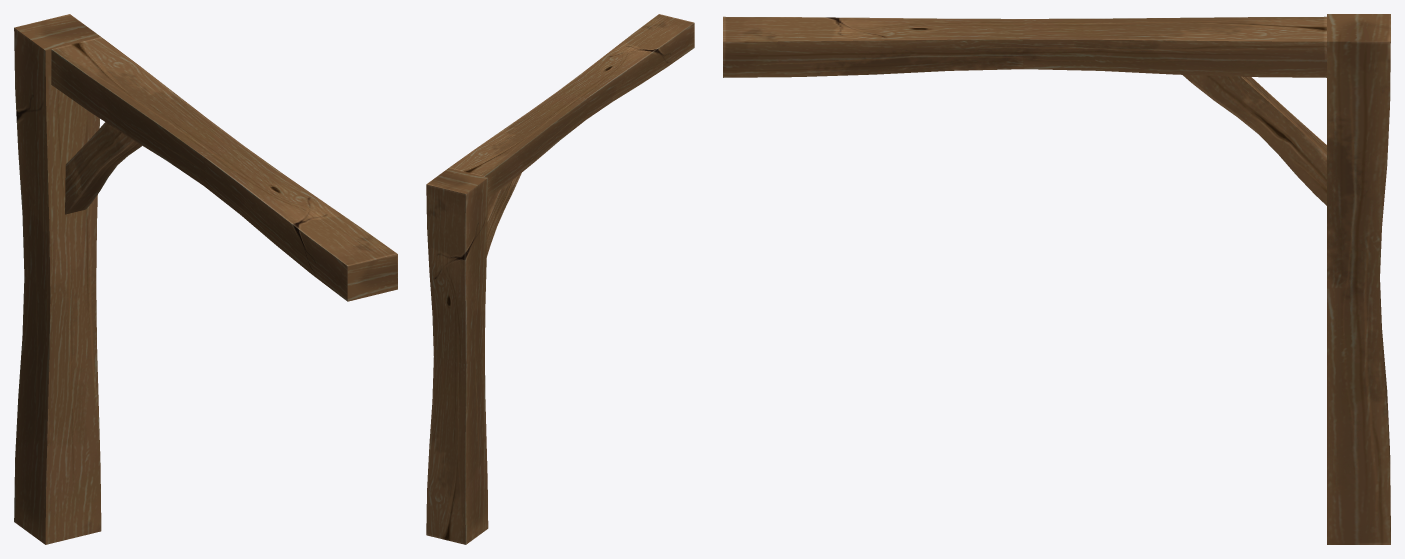
The model's file is SM_poutre_corner.fbx.
3 views of the same model, side by side, from view 1: azimuth 30°, elevation 25°; view 2: azimuth 150°, elevation 25°; view 3: azimuth 270°, elevation 25° (orthographic). The views are drawn at different scales.
Parts seen in each view (by area): view 1: SM_poutre_corner; view 2: SM_poutre_corner; view 3: SM_poutre_corner.
Part boxes in pixels (<box>): SM_poutre_corner: <box>14,14,397,544</box>; SM_poutre_corner: <box>426,14,694,544</box>; SM_poutre_corner: <box>723,14,1390,544</box>.
Size of the model in its own units: 0.6572 by 5.56 by 6.68.
